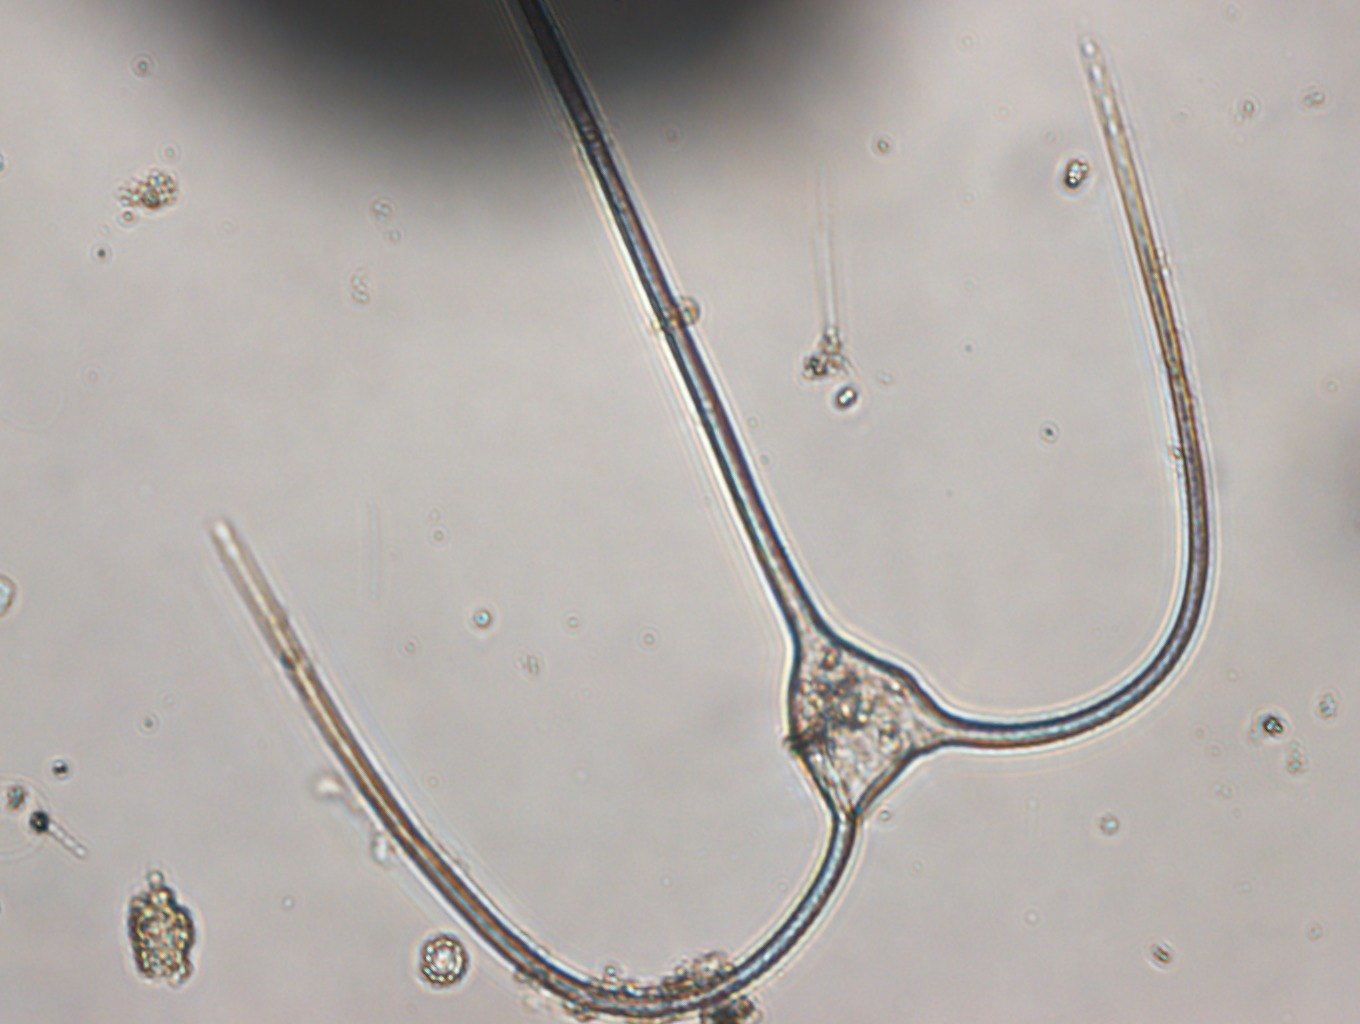ceratium trichoceros: (210, 1, 1213, 1023)
